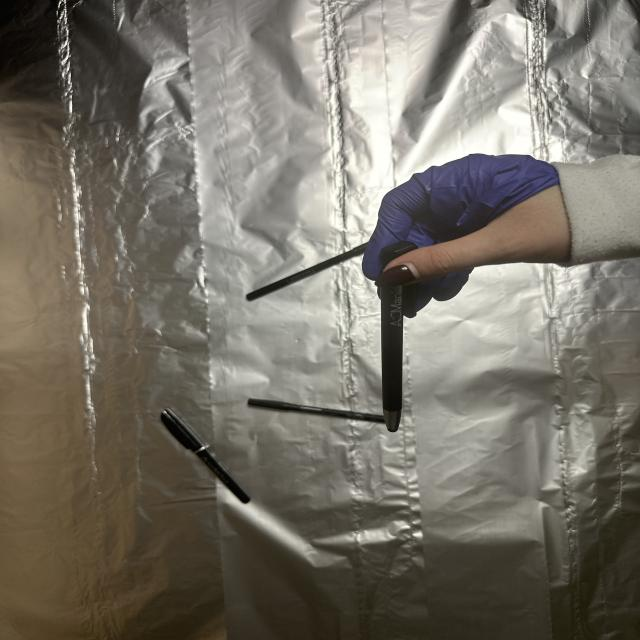glove_partial: (360, 149, 582, 321)
